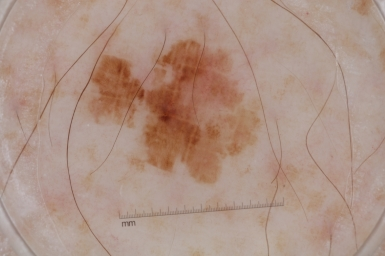seborrheic keratosis: (84, 36, 265, 188)
